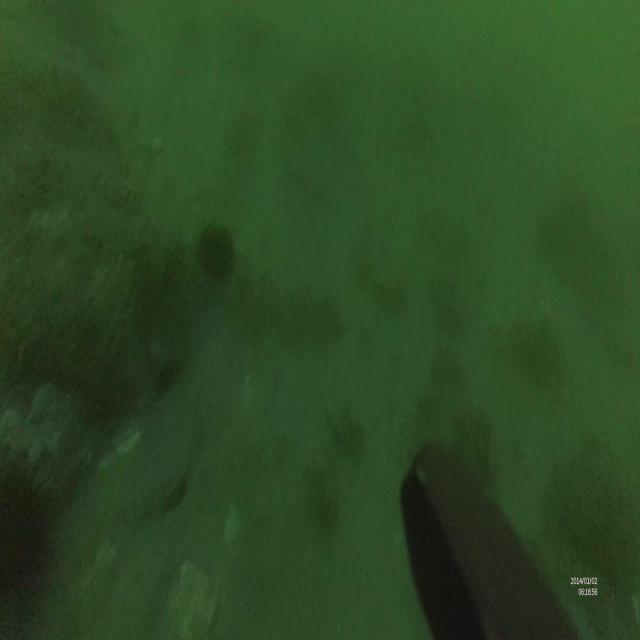echinus: (198, 220, 236, 281)
